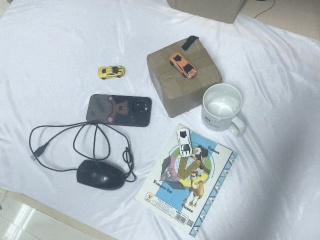book: (134, 123, 240, 238)
box: (147, 35, 222, 118), (161, 1, 251, 25)
cup: (201, 82, 248, 136)
mouse: (76, 159, 126, 191)
phone: (85, 89, 151, 128)
toy_car: (170, 52, 199, 78), (176, 128, 195, 157), (97, 65, 126, 80)
